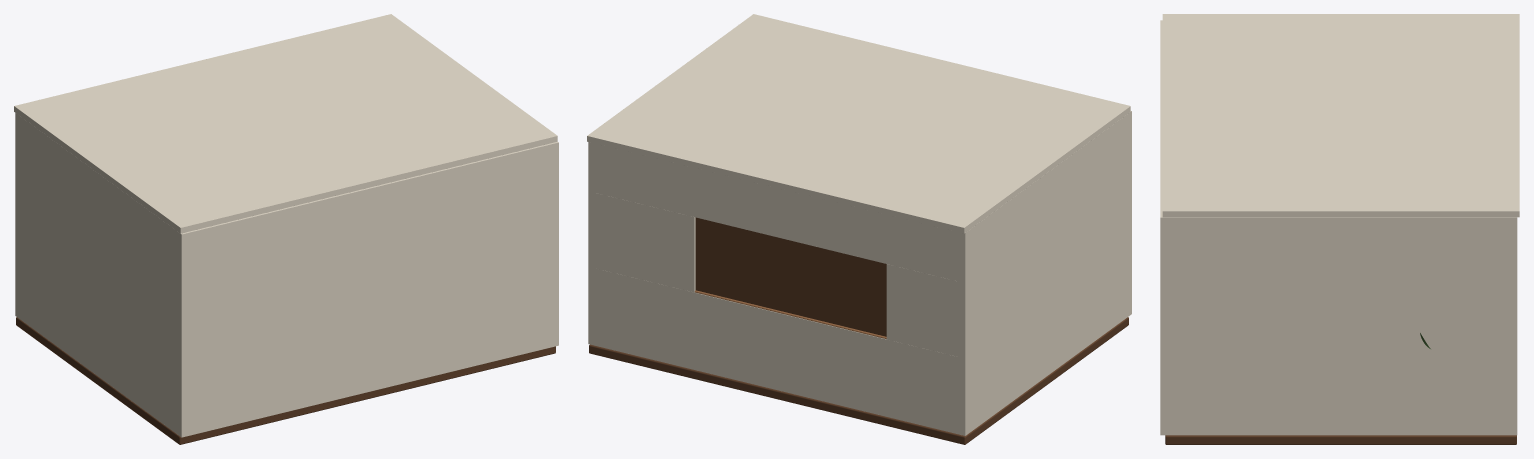
The model's file is room.glb.
The picture shows the model from 3 angles, left to right: view 1: azimuth 30°, elevation 25°; view 2: azimuth 150°, elevation 25°; view 3: azimuth 270°, elevation 25°; orthographic projection. The views are drawn at different scales.
Visible parts, largest first — view 1: Architecture_WarmPlaster, Architecture_DarkWalnut; view 2: Architecture_WarmPlaster, Window_DarkWalnut, Architecture_DarkWalnut, Window_Walnut; view 3: Architecture_WarmPlaster, Architecture_DarkWalnut.
Boxes of the visible parts, box(x1,y1,x2,y2) form: Architecture_WarmPlaster: box(14, 14, 558, 437); Architecture_DarkWalnut: box(16, 317, 555, 444); Architecture_WarmPlaster: box(587, 14, 1131, 435); Window_DarkWalnut: box(695, 217, 886, 336); Architecture_DarkWalnut: box(589, 317, 1128, 444); Window_Walnut: box(694, 290, 886, 338); Architecture_WarmPlaster: box(1160, 14, 1519, 435); Architecture_DarkWalnut: box(1165, 435, 1516, 444).
Size of the model in its own units: 8.22 by 4.52 by 6.28.
